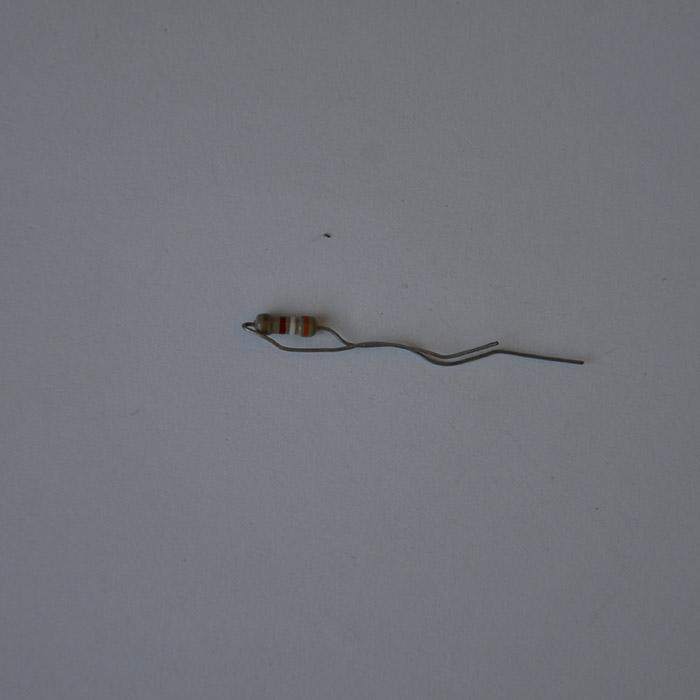resistor: (254, 312, 317, 335)
